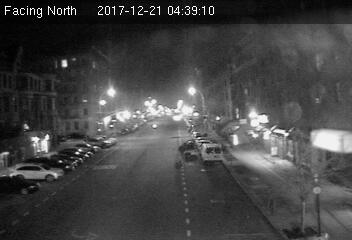truck: (201, 143, 223, 163)
